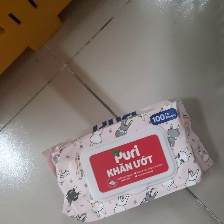Puri hong: (36, 96, 217, 224)
